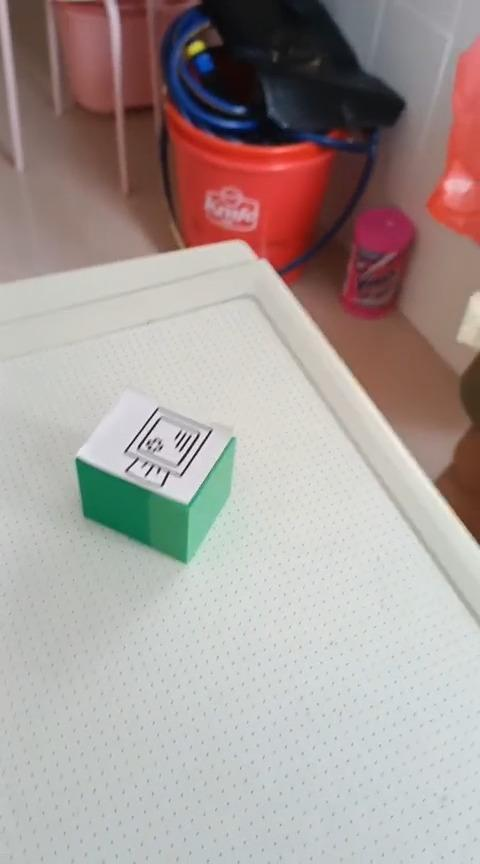Gauze: (74, 385, 236, 564)
